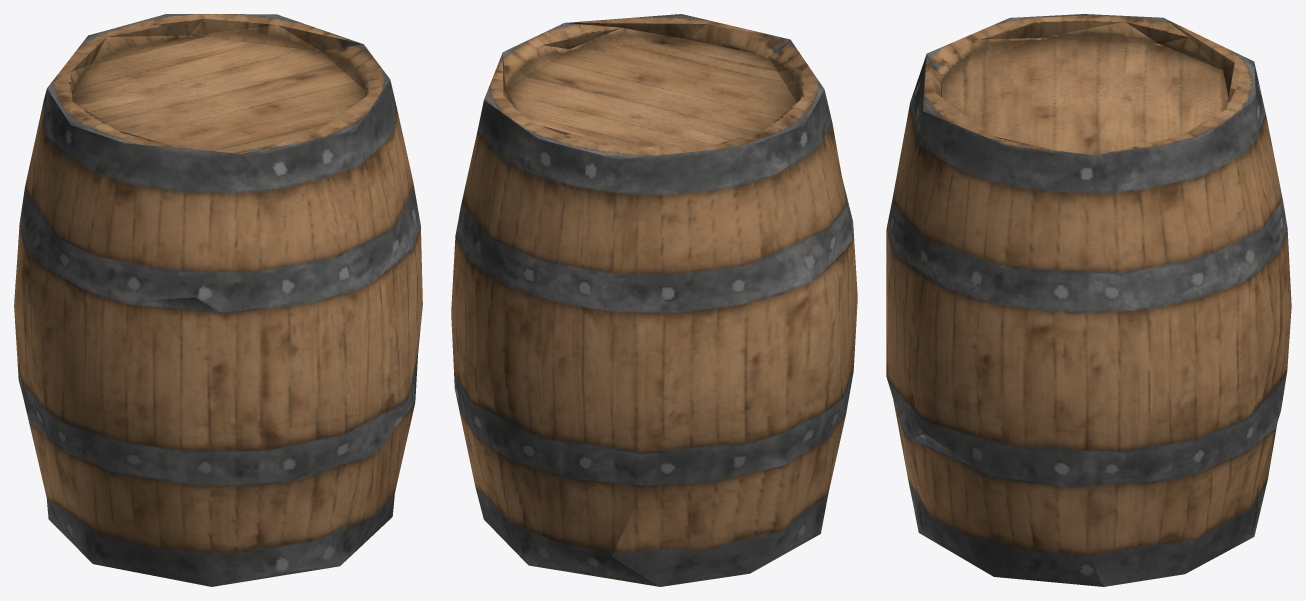
File: barrel_lod0.glb
3 renders of one model, left to right at view 1: azimuth 30°, elevation 25°; view 2: azimuth 150°, elevation 25°; view 3: azimuth 270°, elevation 25°, orthographic.
Parts seen in each view (by area): view 1: low; view 2: low; view 3: low.
Boxes of the visible parts, box(x1,y1,x2,y2) form: low: box(14, 14, 422, 586); low: box(451, 14, 857, 586); low: box(886, 14, 1291, 586).
Size of the model in its own units: 0.9104 by 1.06 by 0.8993.
Materials: 1 (1 with a texture image).
